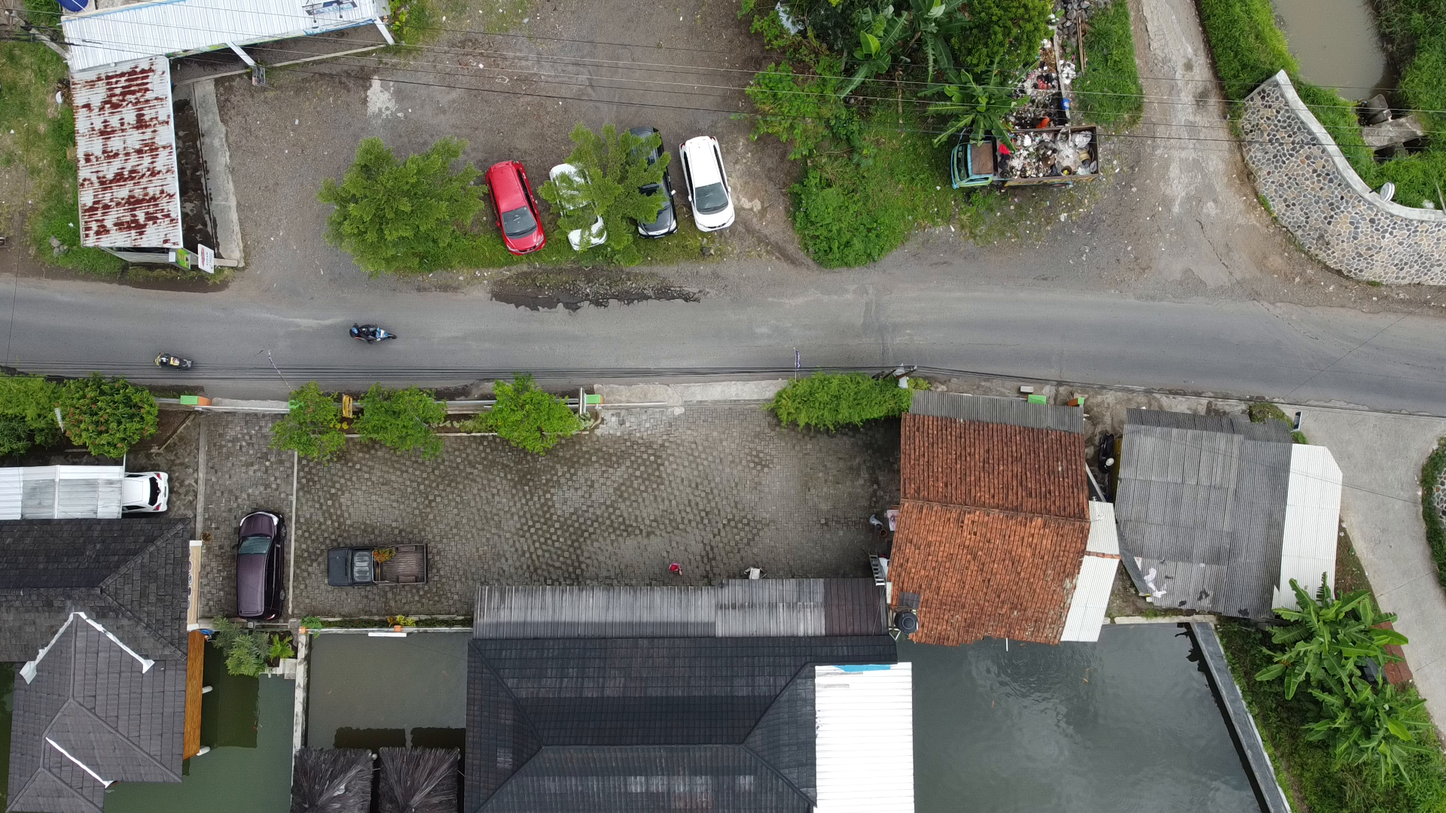mobil: (477, 145, 545, 266), (544, 145, 612, 266), (606, 127, 673, 248), (673, 131, 740, 252), (218, 500, 285, 621), (329, 537, 437, 592), (117, 461, 182, 527)
